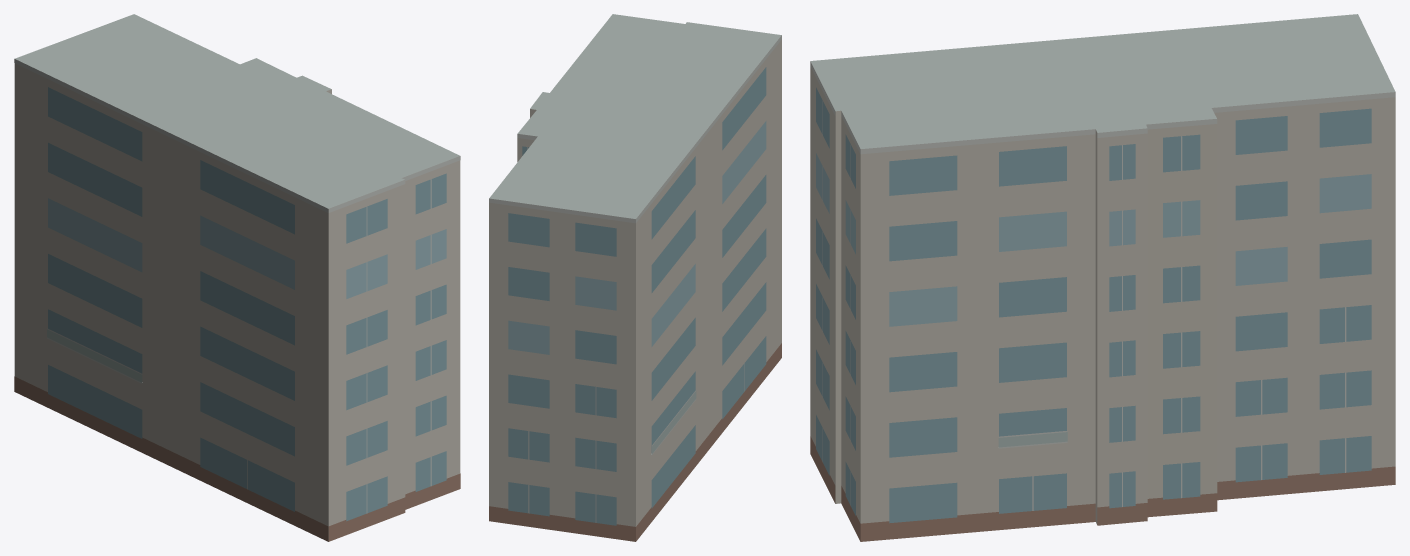
File: survey-upis-32562179.glb
3 renders of one model, left to right at view 1: azimuth 30°, elevation 25°; view 2: azimuth 150°, elevation 25°; view 3: azimuth 270°, elevation 25°, orthographic. The views are drawn at different scales.
Parts seen in each view (by area): view 1: survey-upis-32562179.tmp; view 2: survey-upis-32562179.tmp; view 3: survey-upis-32562179.tmp.
Boxes of the visible parts, box(x1,y1,x2,y2) form: survey-upis-32562179.tmp: box(14, 14, 460, 541); survey-upis-32562179.tmp: box(489, 14, 781, 541); survey-upis-32562179.tmp: box(810, 14, 1395, 541).
Size of the model in its own units: 13.74 by 18.6 by 25.14.
